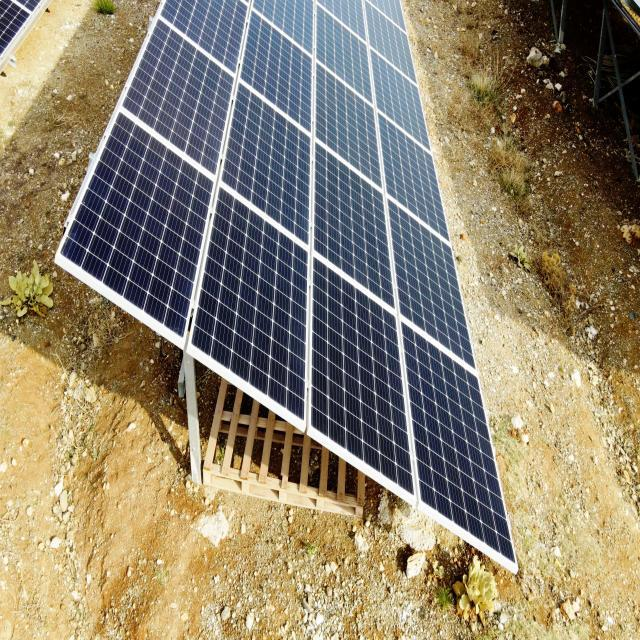no faulty: (61, 5, 516, 572)
